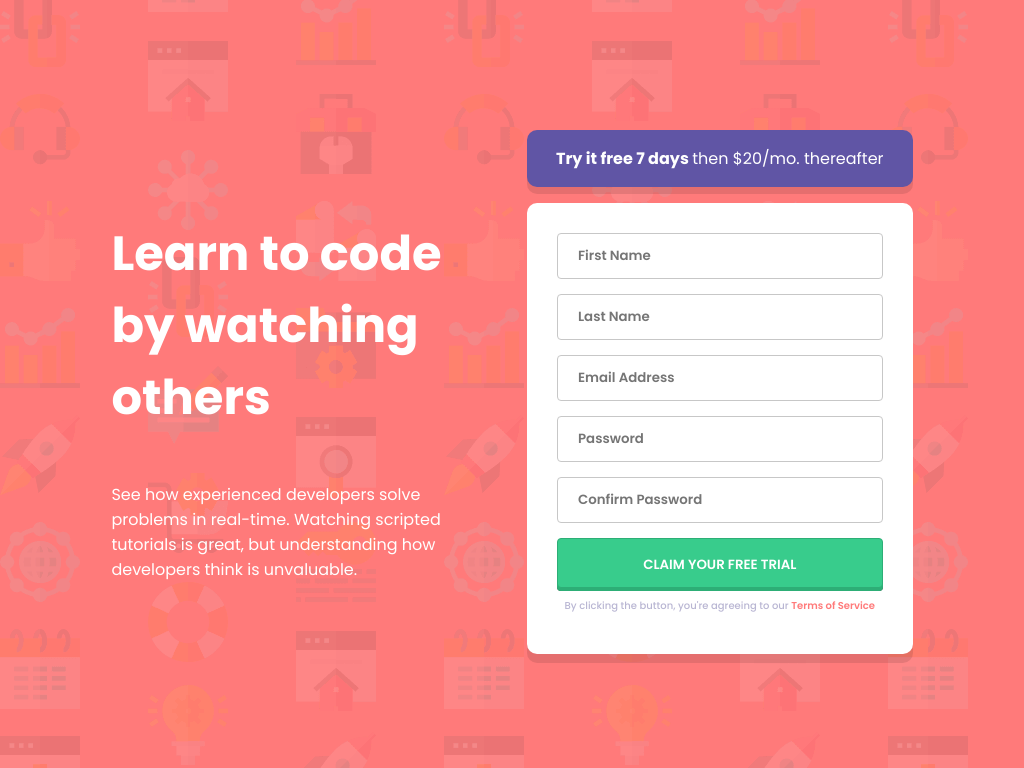
Test: Signup form: expected to show message when only firstName is empty
Type "Doe" into the field with placeholder "Last Name" at (720, 317), box left=557, top=294, right=883, bottom=340
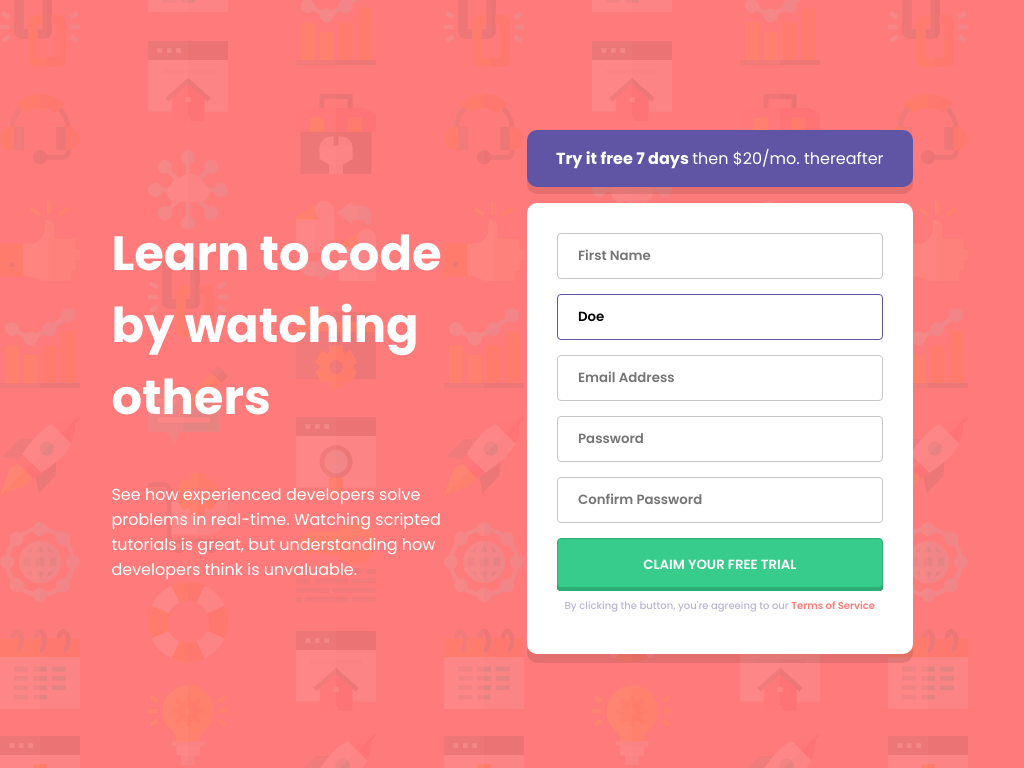
Type "johnDoe@example.com" into the field with placeholder "Email Address" at (720, 378), box left=557, top=355, right=883, bottom=401
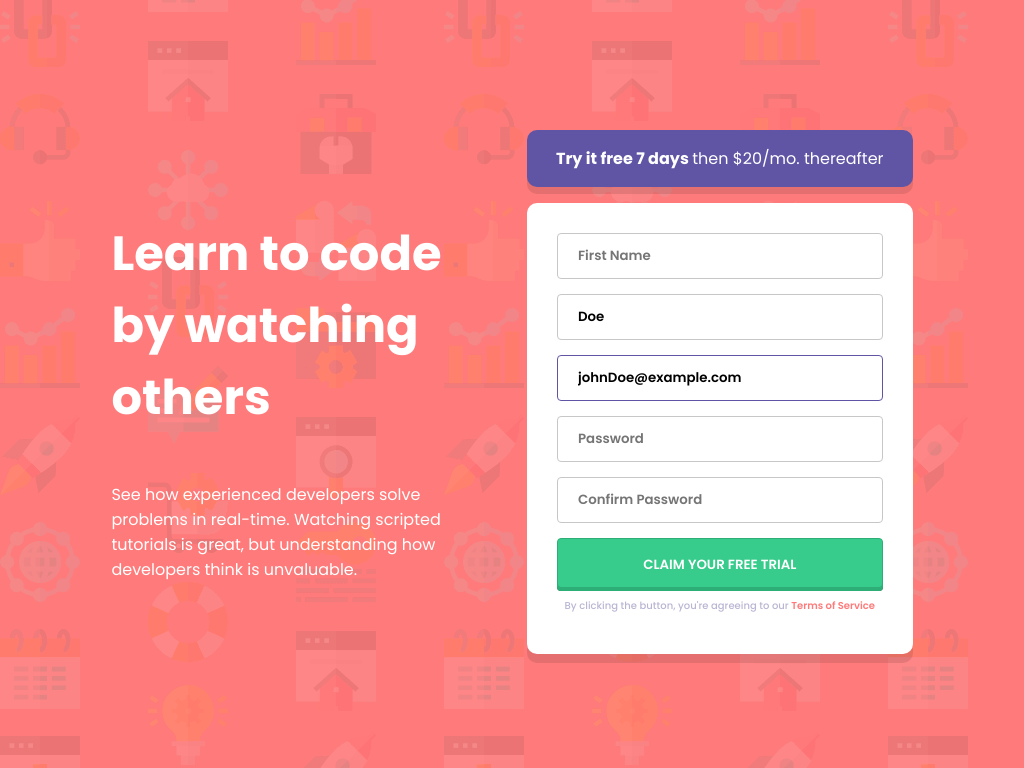
Type "unsafePassword123" into the password field with placeholder "Password" at (720, 439), box left=557, top=416, right=883, bottom=462
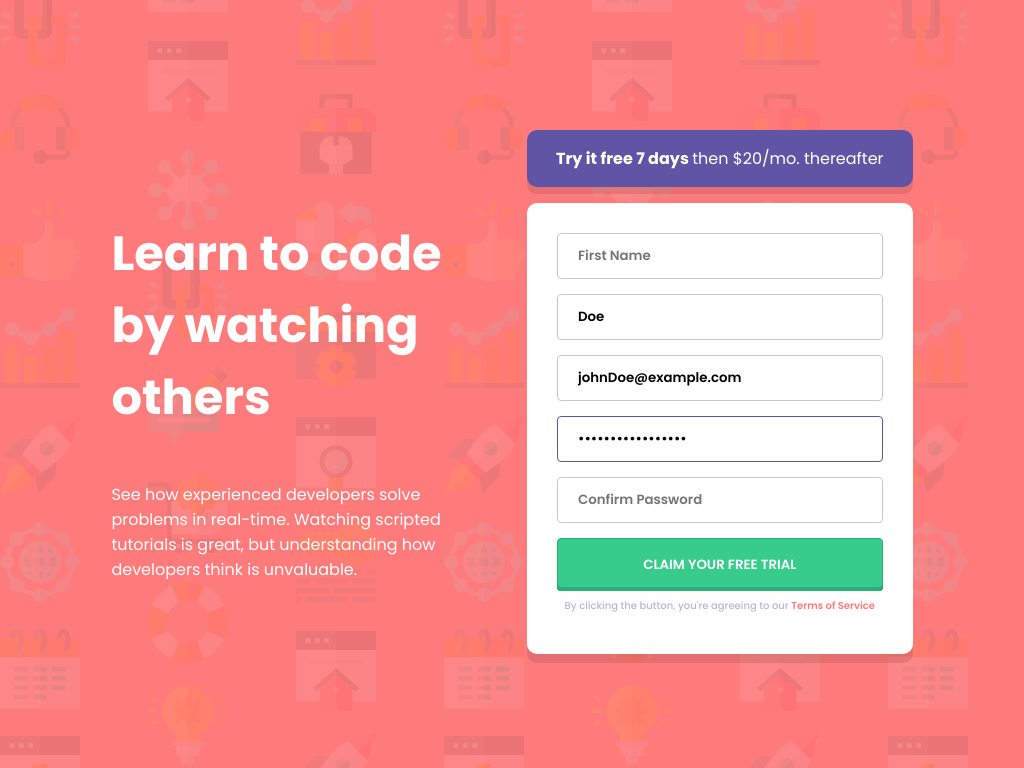
Type "unsafePassword123" into the password field with placeholder "Confirm Password" at (720, 500), box left=557, top=477, right=883, bottom=523
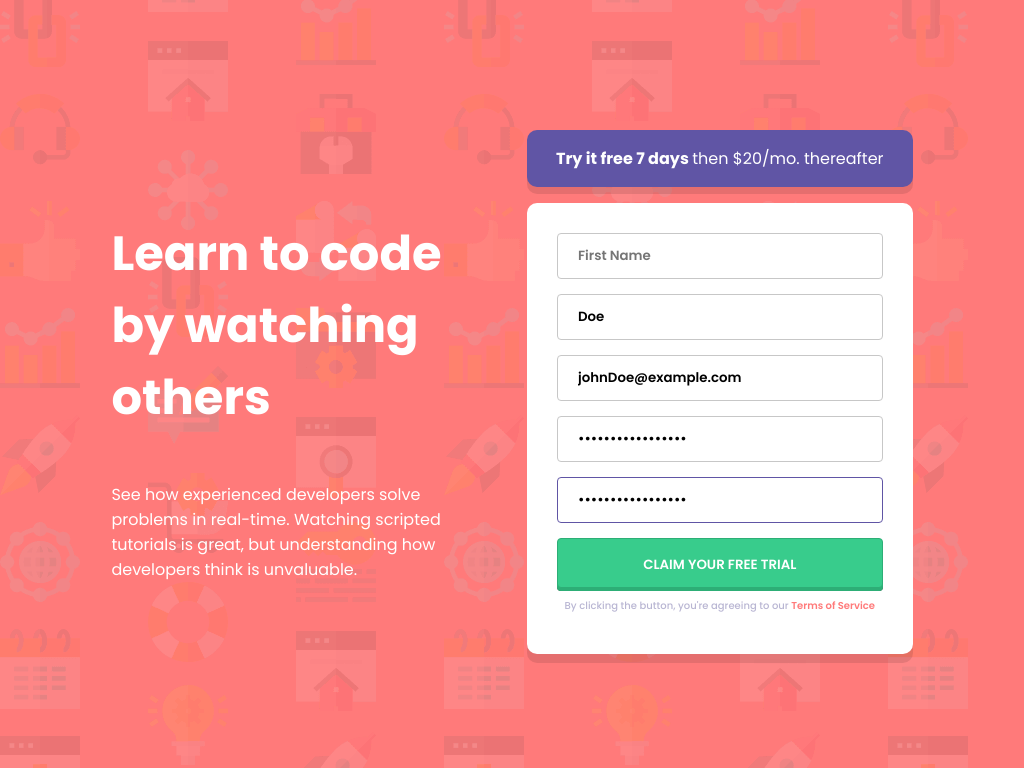
Click the button showing "CLAIM YOUR FREE TRIAL" at (720, 563), box left=557, top=538, right=883, bottom=588
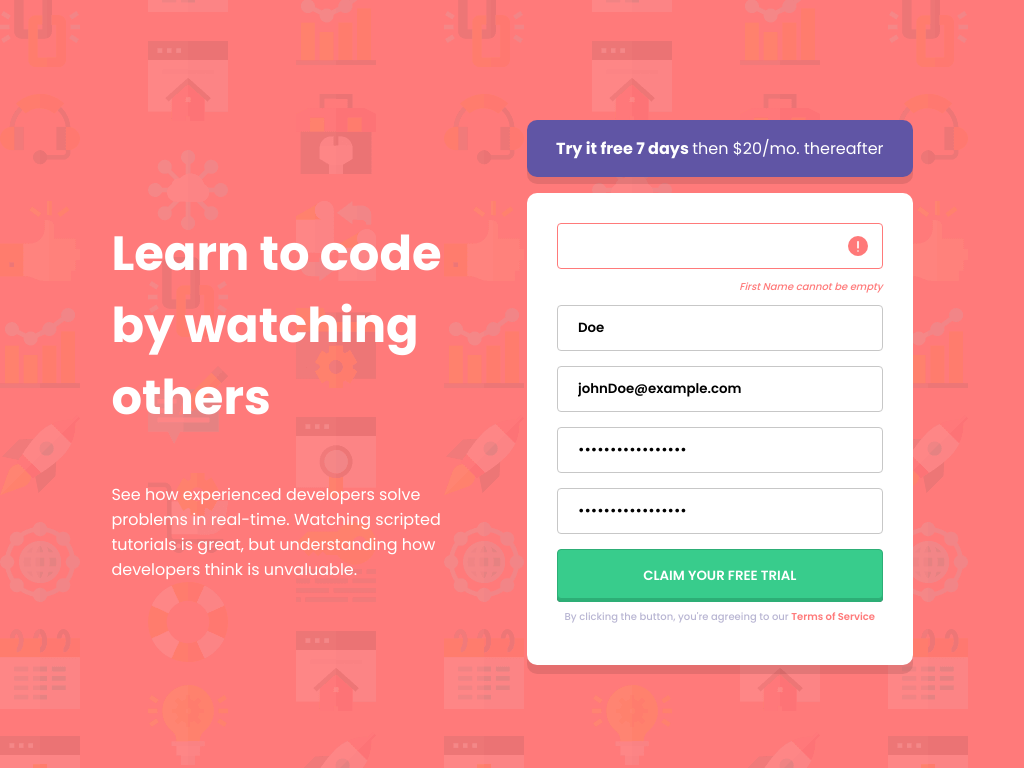
Expected: the text "First Name cannot be empty" is shown, left=739, top=278, right=883, bottom=294
